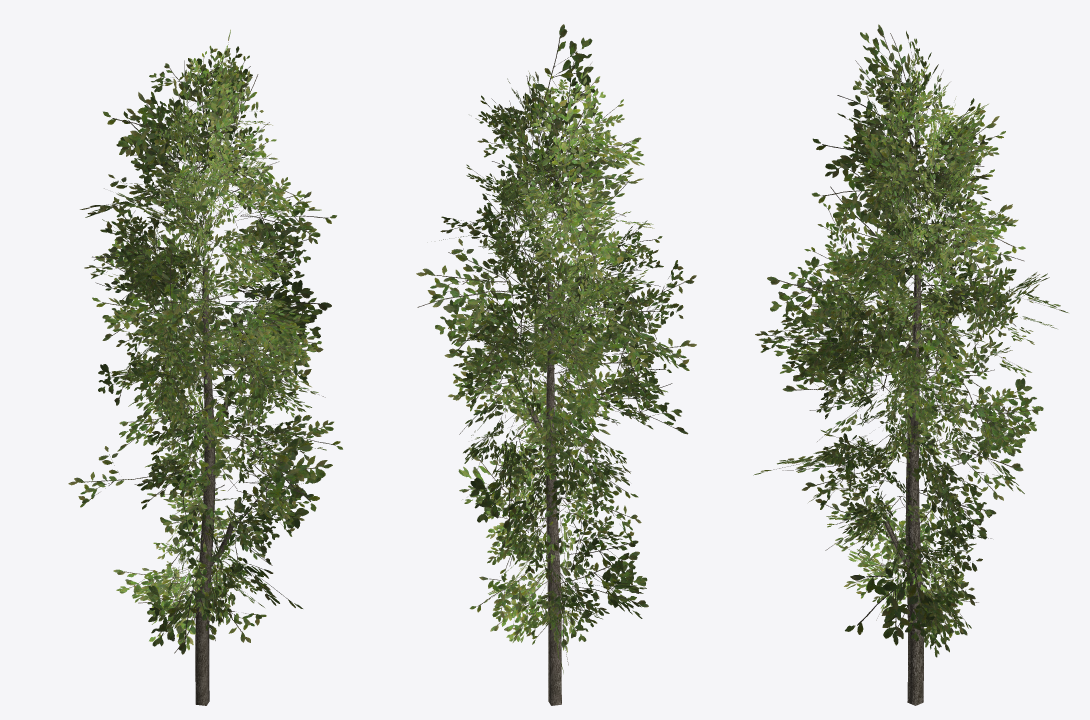
The model's file is tree_poplar_v0_l1.glb.
3 views of the same model, side by side, from view 1: azimuth 30°, elevation 25°; view 2: azimuth 150°, elevation 25°; view 3: azimuth 270°, elevation 25° (orthographic). The views are drawn at different scales.
Parts seen in each view (by area): view 1: tree_poplar_v0_l1; view 2: tree_poplar_v0_l1; view 3: tree_poplar_v0_l1.
Boxes of the visible parts, x1,y1,x2,y2 form: tree_poplar_v0_l1: [68, 29, 342, 705]; tree_poplar_v0_l1: [416, 24, 696, 705]; tree_poplar_v0_l1: [753, 24, 1068, 705].
Size of the model in its own units: 6.56 by 14.29 by 6.14.
2 materials, 2 textured.
